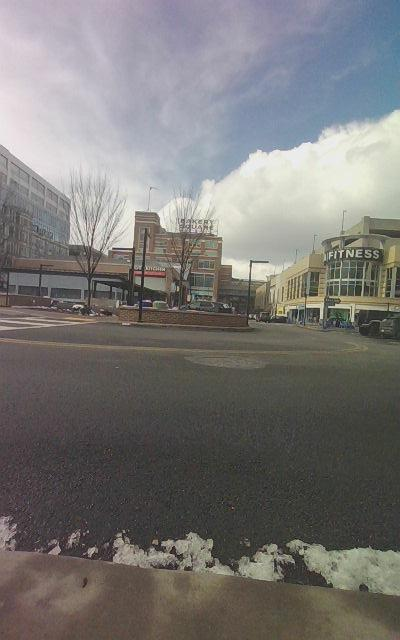curb: (0, 551, 399, 639)
road: (0, 312, 399, 595)
